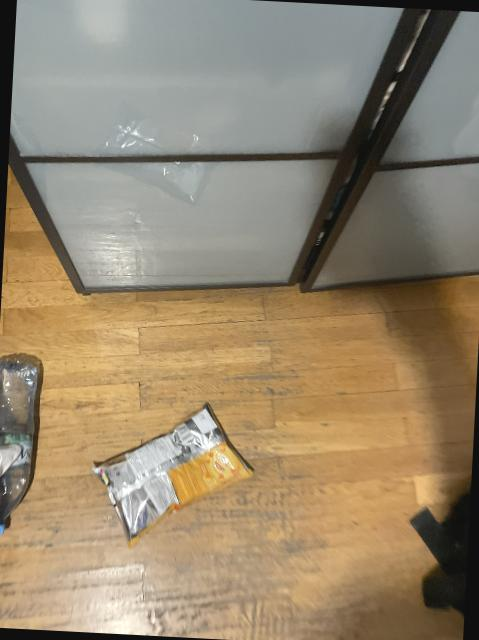Chio Hula Hoops Cheese 70g: (89, 395, 262, 554)
